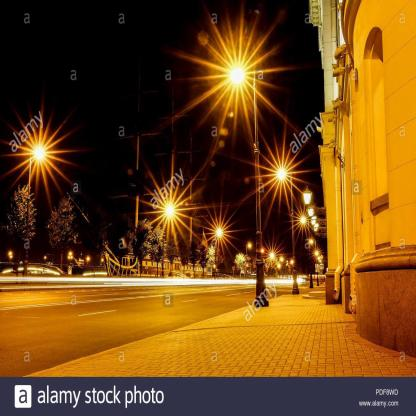other: (18, 116, 74, 190), (201, 43, 258, 113), (296, 190, 320, 269), (243, 240, 294, 269), (152, 189, 186, 231), (267, 156, 292, 192), (209, 225, 231, 249)
